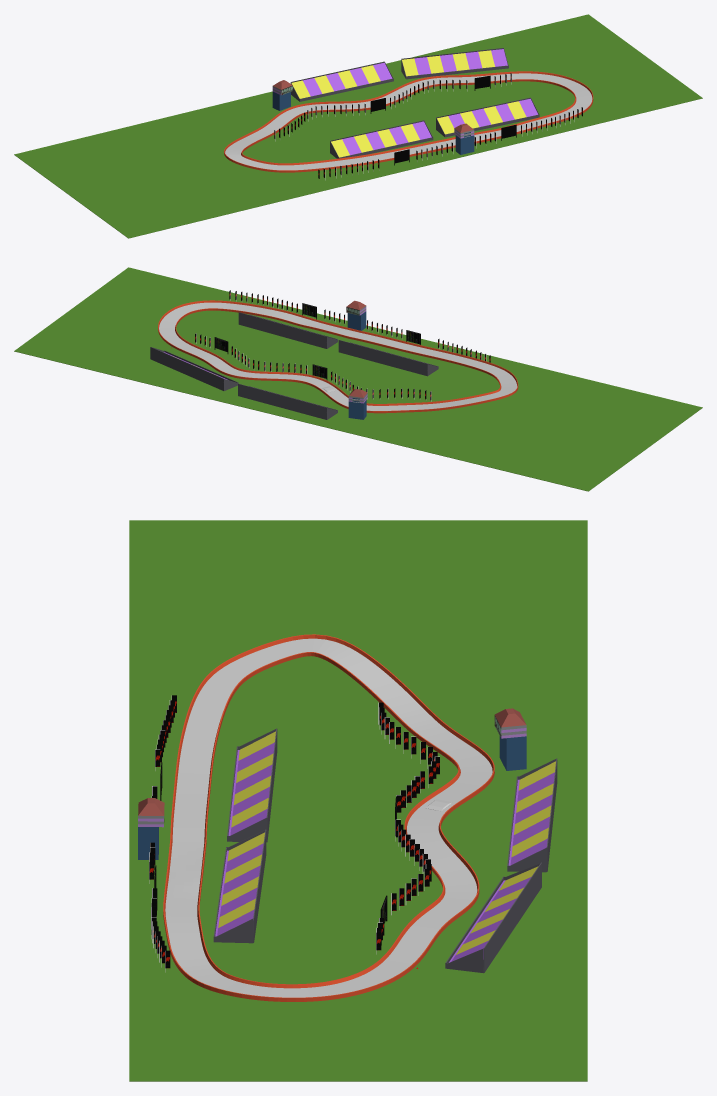
Rendered from proga_apply.fbx.
3 views of the same model, one above another, from view 1: azimuth 30°, elevation 25°; view 2: azimuth 150°, elevation 25°; view 3: azimuth 270°, elevation 25° (orthographic). The views are drawn at different scales.
Parts seen in each view (by area): view 1: Cube.048, Cube, Cube.003, Cube.002, Cube.050, Cube.049, Cube.053, Cube.004; view 2: Cube.048, Cube, Cube.050, Cube.049, Cube.002, Cube.003, Cube.004, Cube.053; view 3: Cube.048, Cube, Cube.003, Cube.049, Cube.002, Cube.050, Cube.004, Cube.053.
Part boxes in pixels (x1,y1,x2,y2): Cube.048: (14, 14, 702, 238); Cube: (224, 71, 593, 172); Cube.003: (401, 48, 508, 79); Cube.002: (290, 61, 393, 101); Cube.050: (330, 120, 433, 158); Cube.049: (436, 97, 539, 137); Cube.053: (454, 123, 474, 154); Cube.004: (272, 80, 292, 110); Cube.048: (14, 267, 702, 491); Cube: (158, 300, 518, 413); Cube.050: (338, 340, 438, 376); Cube.049: (238, 312, 337, 348); Cube.002: (238, 383, 337, 419); Cube.003: (150, 347, 238, 390); Cube.004: (348, 389, 367, 419); Cube.053: (346, 300, 366, 330); Cube.048: (129, 520, 587, 1081); Cube: (163, 634, 494, 1001); Cube.003: (445, 862, 541, 973); Cube.049: (213, 829, 266, 943); Cube.002: (507, 758, 557, 872); Cube.050: (227, 728, 277, 842); Cube.004: (494, 708, 526, 770); Cube.053: (138, 798, 164, 859).
Size of the model in its own units: 34382 by 1533 by 11869.
